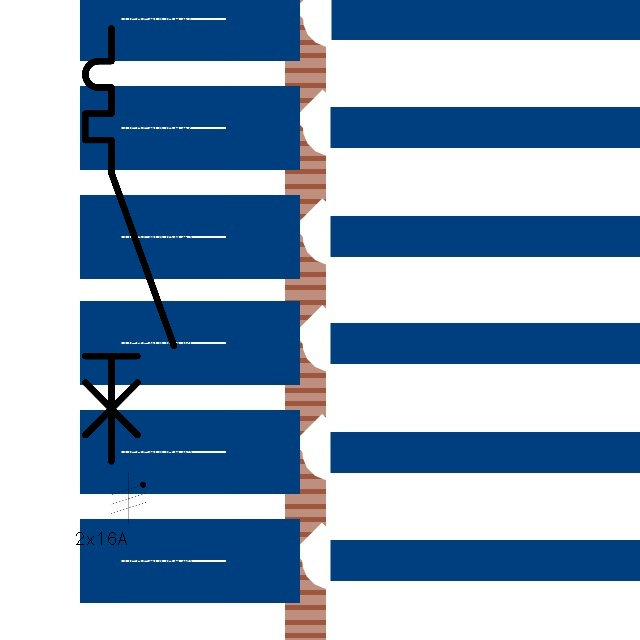interruptor_termomagnetico: (74, 17, 185, 472)
